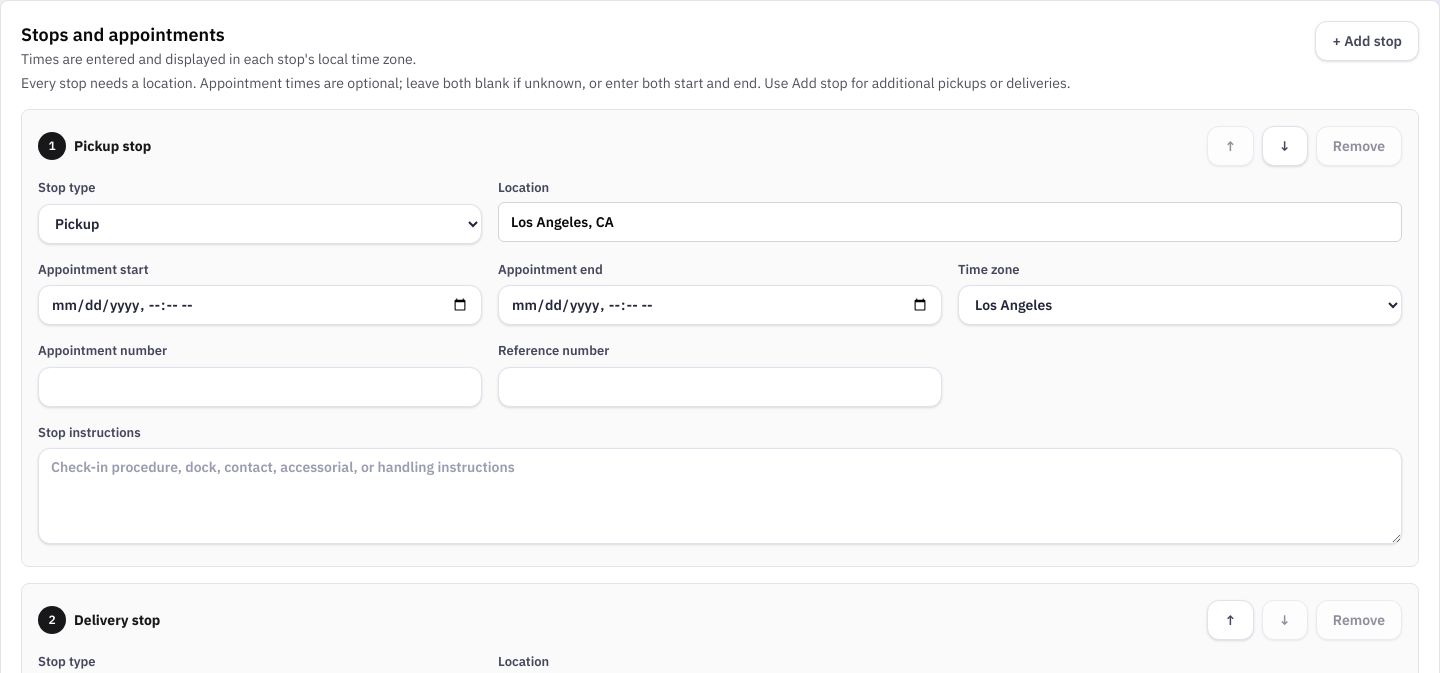
LoadStopsEditor › adds, reorders, and removes structured stops
The image size is (1440, 673).
Click the button "+ Add stop": (1367, 41) [1315,21,1419,61]
(page scrolled)
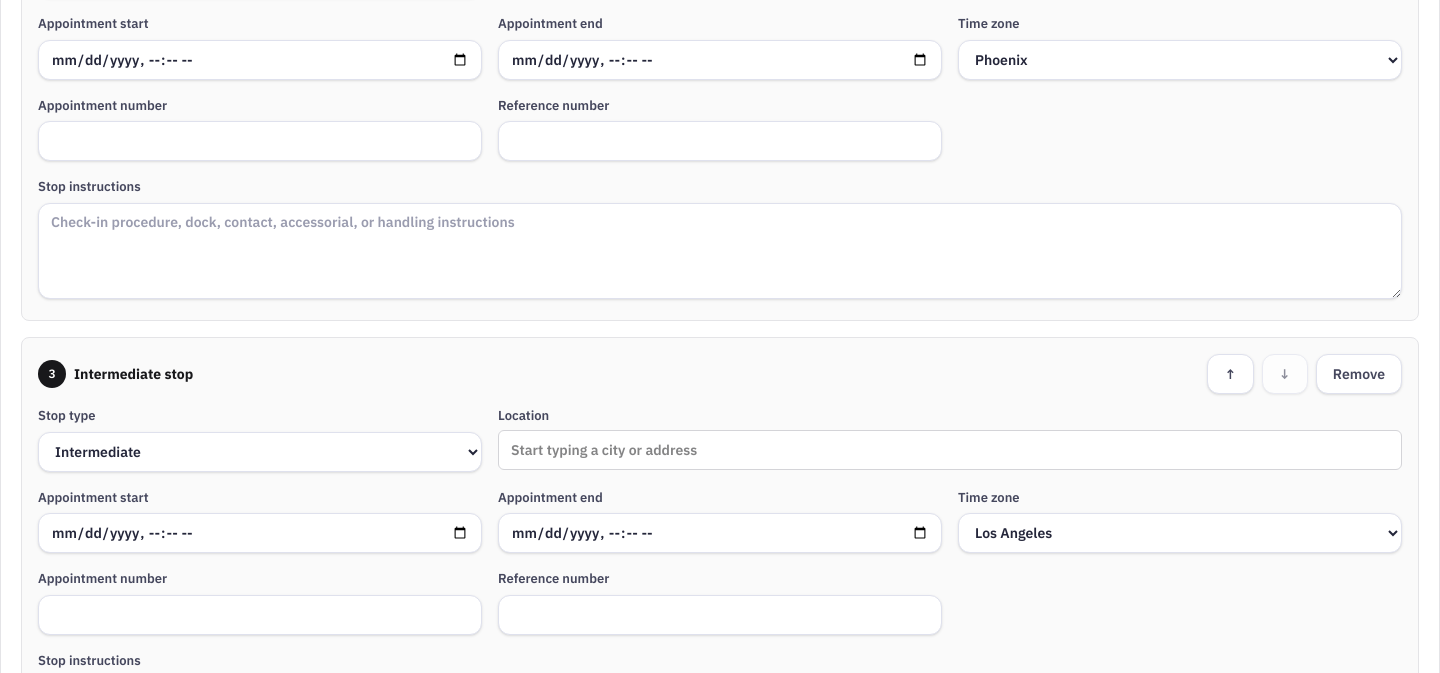
Result: the number of fields labelled "Stop type" is 3
Select "Return" in the dropdown labelled "Stop type": (260, 452) [38,432,482,472]
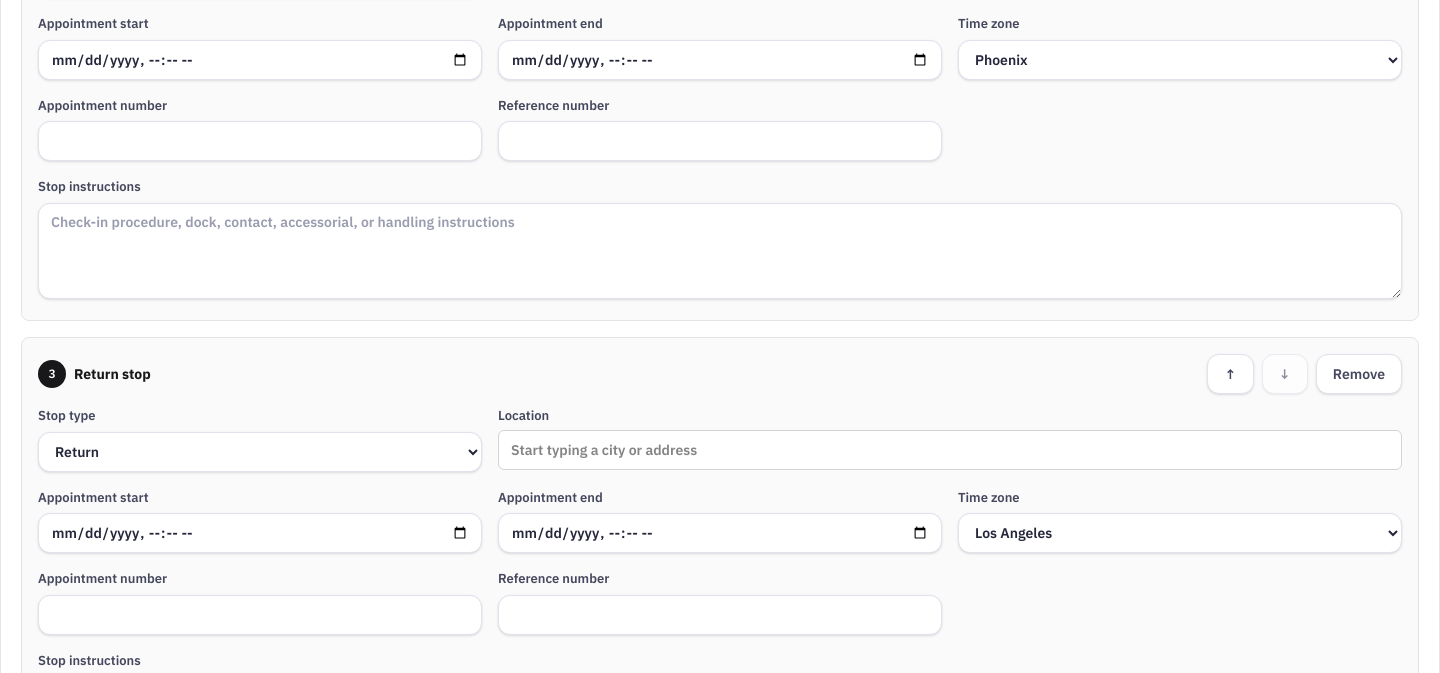
Click the button named "Move stop 3 up": (1230, 374) [1207,354,1254,394]
(page scrolled)
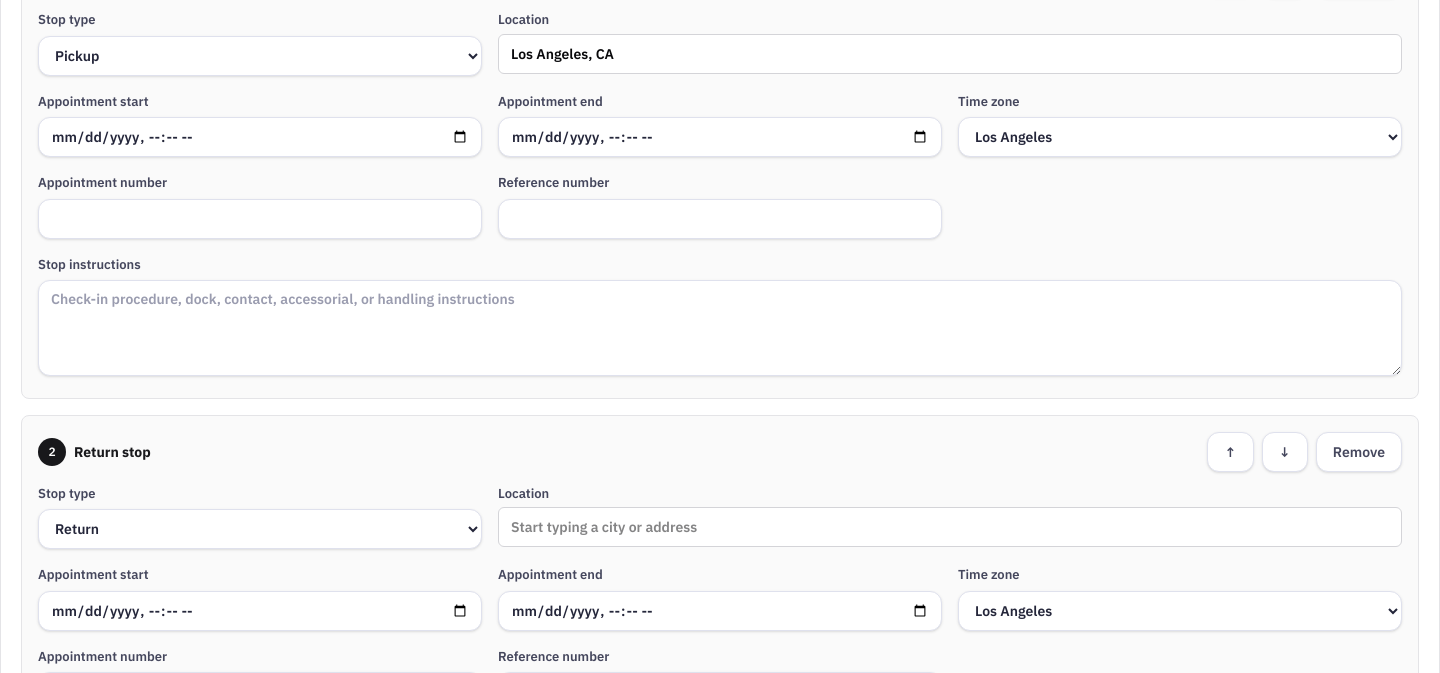
Click the button "Remove": (1359, 452) [1316,432,1402,472]
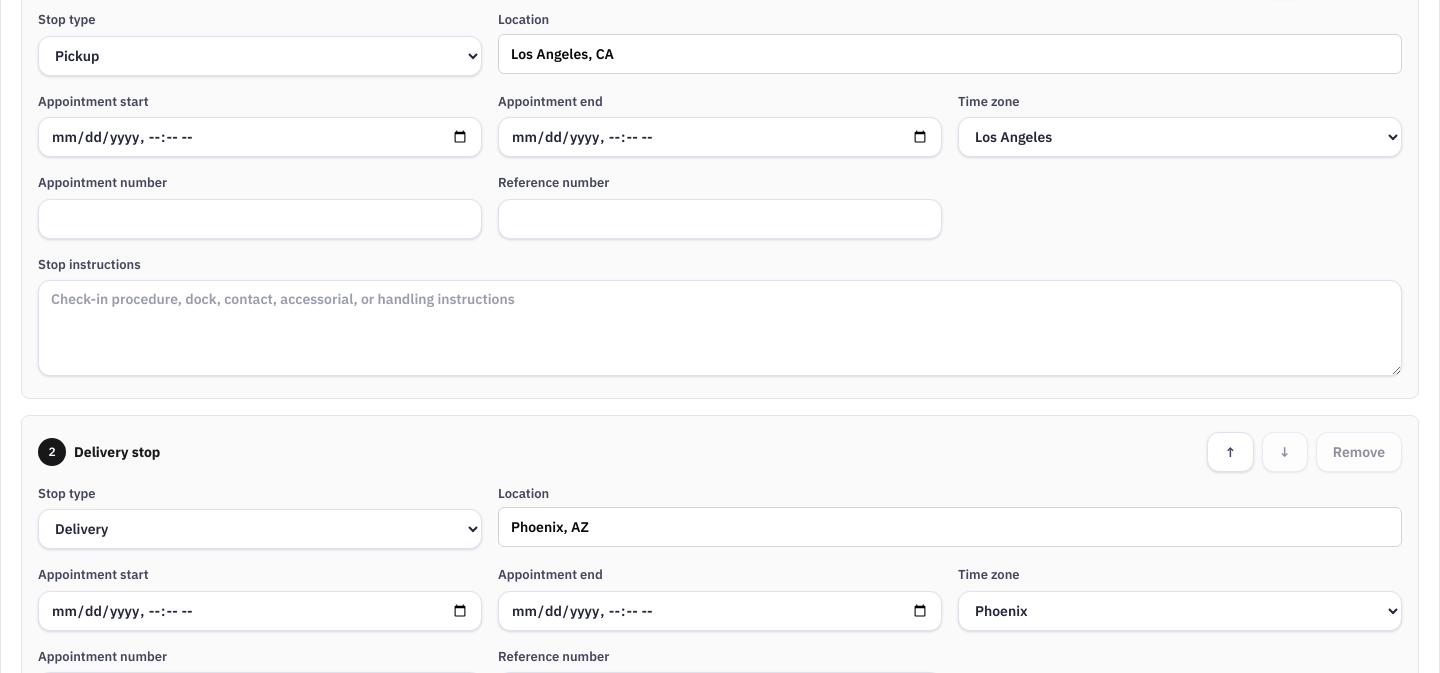
Result: the number of dropdowns labelled "Stop type" is 2 at [38,36,482,76]; [38,509,482,549]
